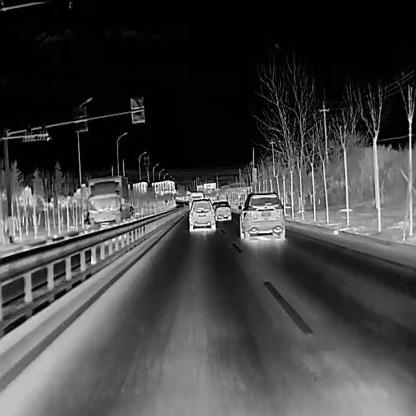bus: (188, 191, 203, 211)
car: (236, 189, 286, 242), (187, 196, 215, 232), (214, 200, 231, 221)
truck: (86, 173, 132, 229)
